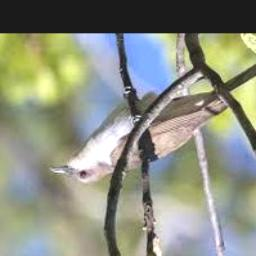Cuckoo: (50, 41, 256, 184)
